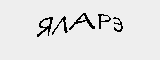А: (66, 12, 96, 32)
Л: (49, 14, 69, 34)
Р: (96, 11, 112, 32)
Э: (111, 15, 126, 36)
Я: (32, 14, 53, 38)
